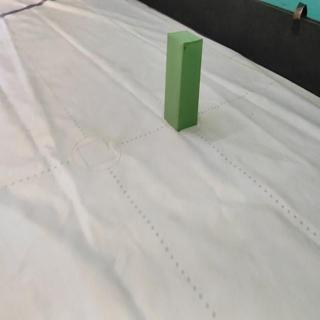greenbox: (161, 29, 204, 133)
